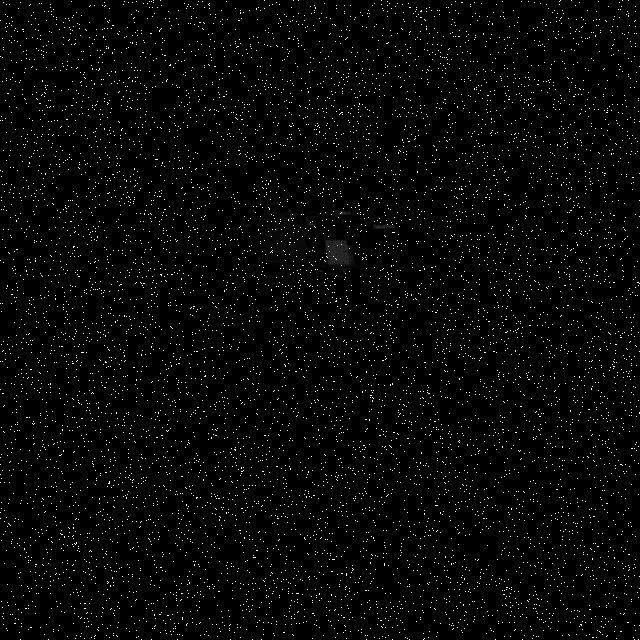satellite: (321, 236, 360, 279)
